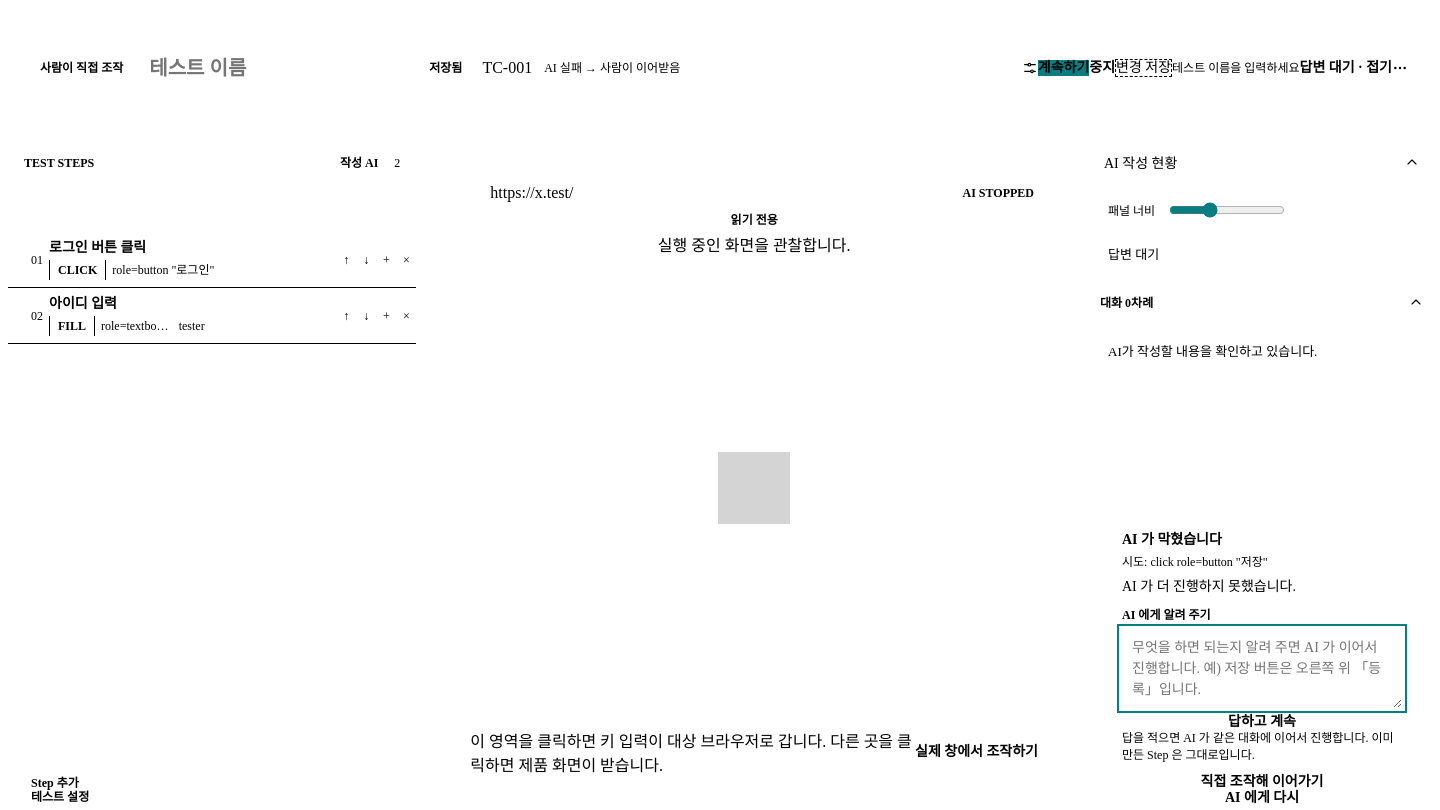
Test: 보내는 길 › 단축키가 있다는 것을 화면이 말한다 — 말하지 않는 단축키는 없는 것과 같다
Type "등록 버튼입니다." into the text box with id "blocked-answer" at [1262, 669], box left=1122, top=629, right=1402, bottom=708
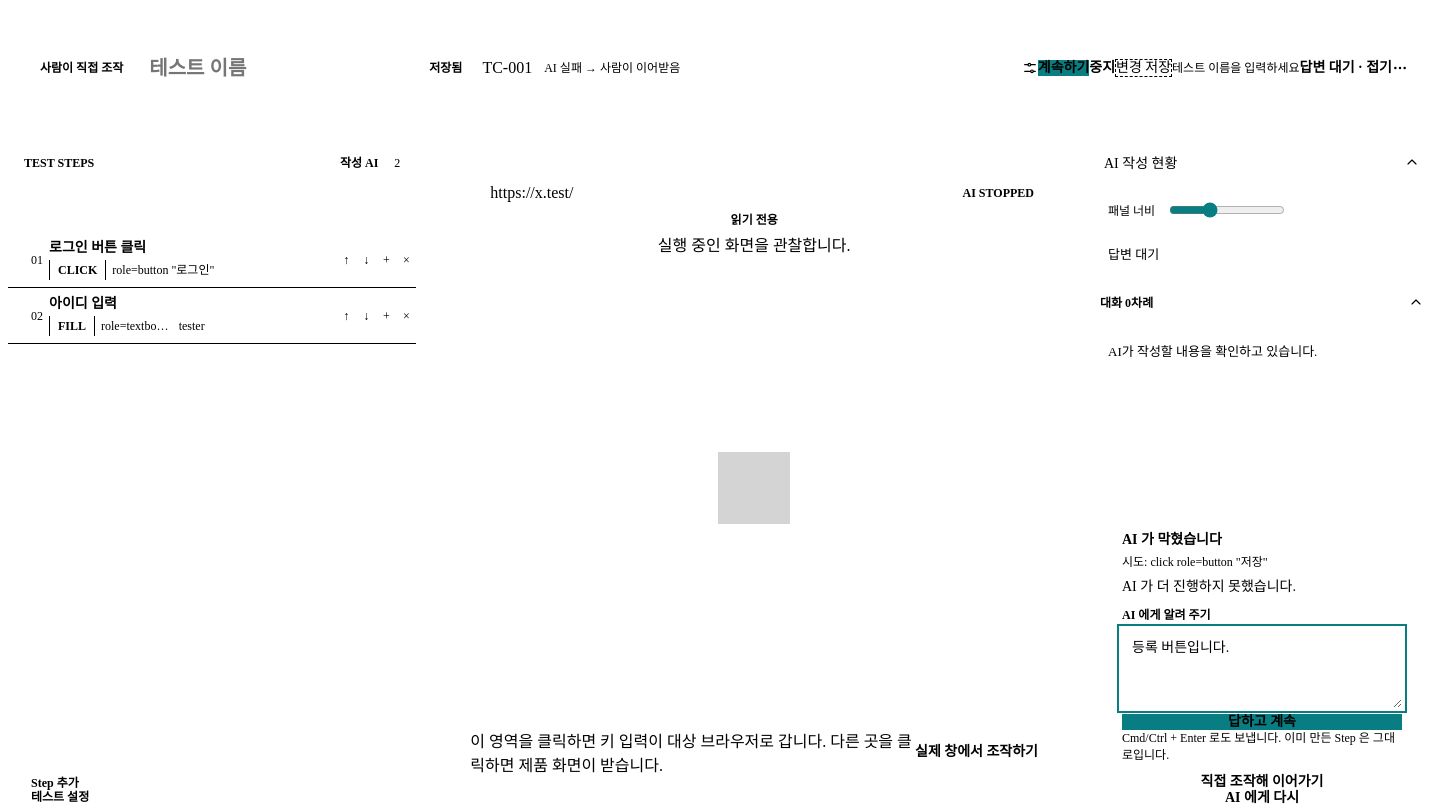
Expected: the text "Cmd/Ctrl + Enter 로도 보냅니다. 이미 만든 Step 은 그대로입니다." is shown, left=1122, top=730, right=1402, bottom=764
